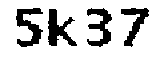3: (83, 5, 115, 48)
5: (10, 4, 45, 52)
7: (119, 6, 153, 50)
k: (46, 6, 81, 54)
